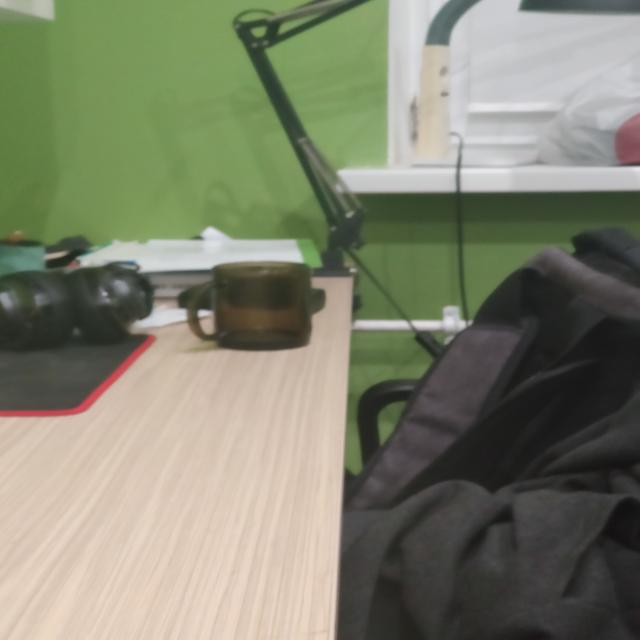cups: (180, 261, 312, 349)
